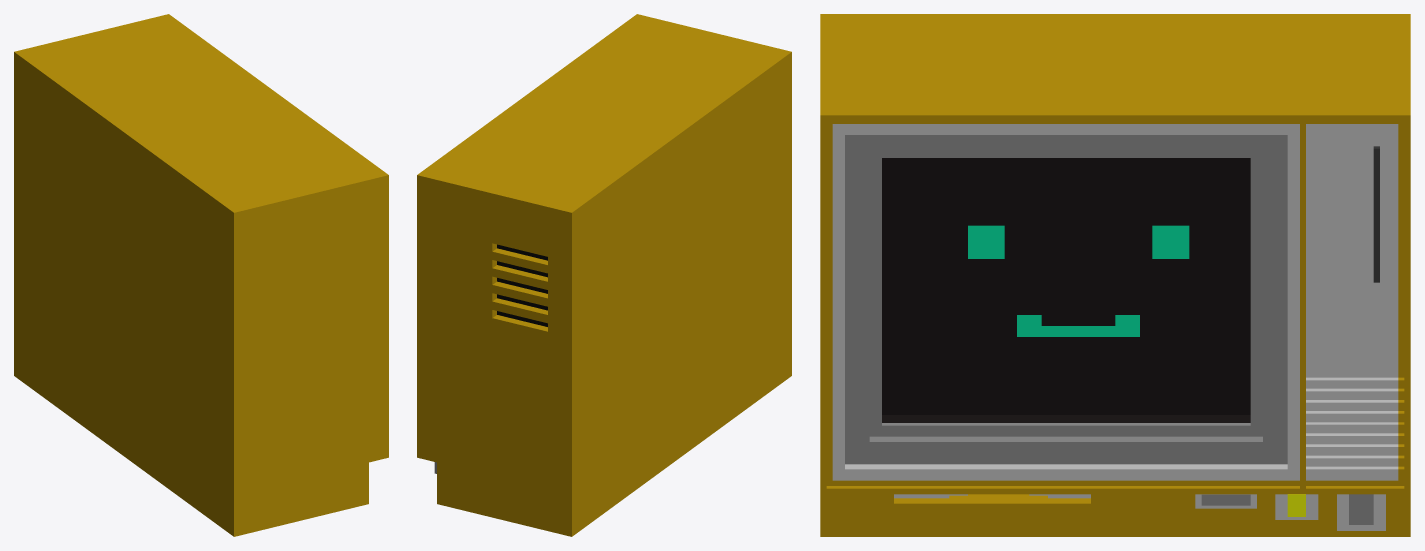
The model's file is main.obj.
The picture shows the model from 3 angles, left to right: view 1: azimuth 30°, elevation 25°; view 2: azimuth 150°, elevation 25°; view 3: azimuth 270°, elevation 25°; orthographic projection. The views are drawn at different scales.
Size of the model in its own units: 3.9 by 7.8 by 9.6.
Materials: 1 (1 with a texture image).
